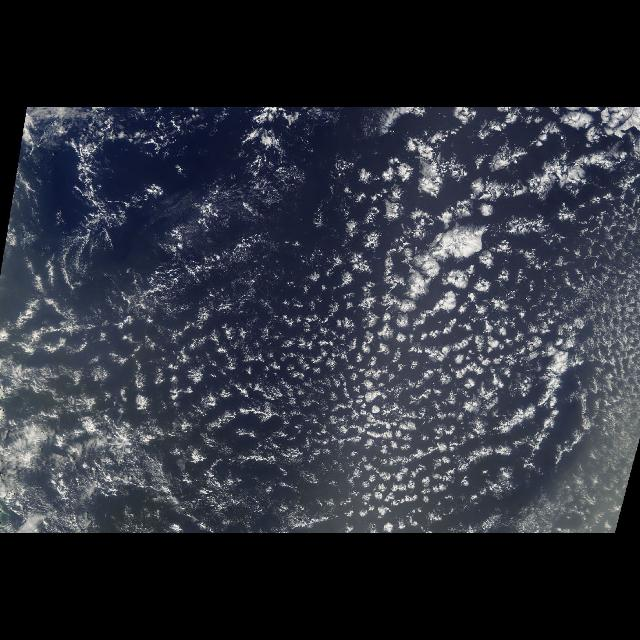Flower: (0, 107, 638, 533)
Sugar: (129, 246, 536, 534)
